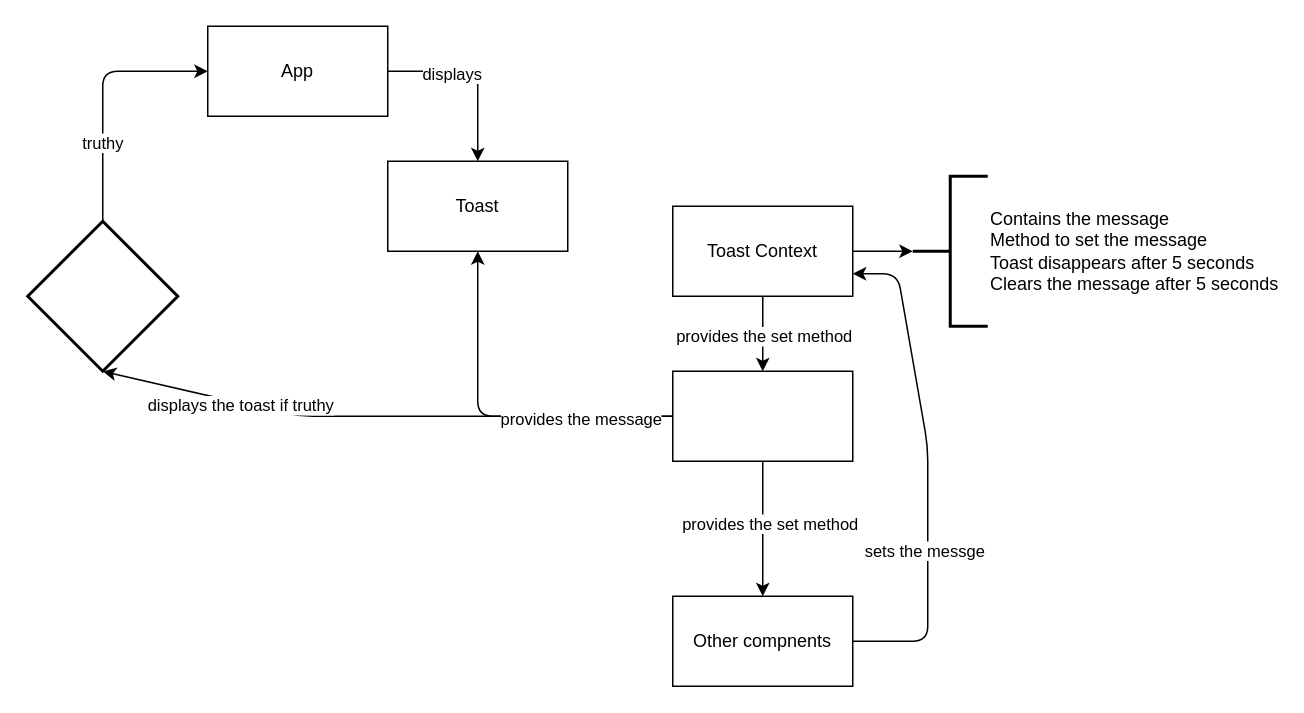
The diagram is 1304 pixels wide and 713 high, and some of its shapes have lost their labels. The shapes that lost their labels are listed below. From the top down, each one's box as (x1, y1, x2, y2) in pixels, then its label:
(26, 219, 178, 372): toast message?
(671, 370, 853, 461): useToastContext
